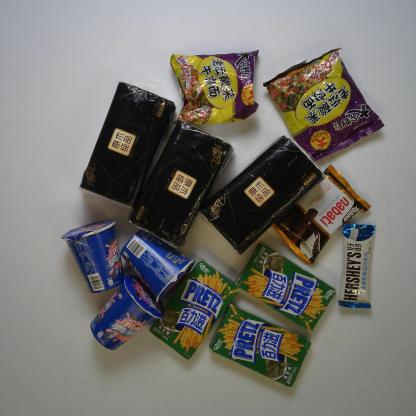Chocolate: (338, 223, 378, 310)
Dessert: (265, 162, 372, 263), (146, 261, 242, 362), (235, 243, 335, 331), (209, 304, 312, 387), (86, 274, 163, 356), (118, 226, 196, 303), (60, 218, 134, 295)
Instant Noodles: (264, 46, 384, 161), (168, 46, 260, 130)
Tissue: (199, 135, 327, 253), (128, 117, 235, 249), (77, 79, 177, 209)
